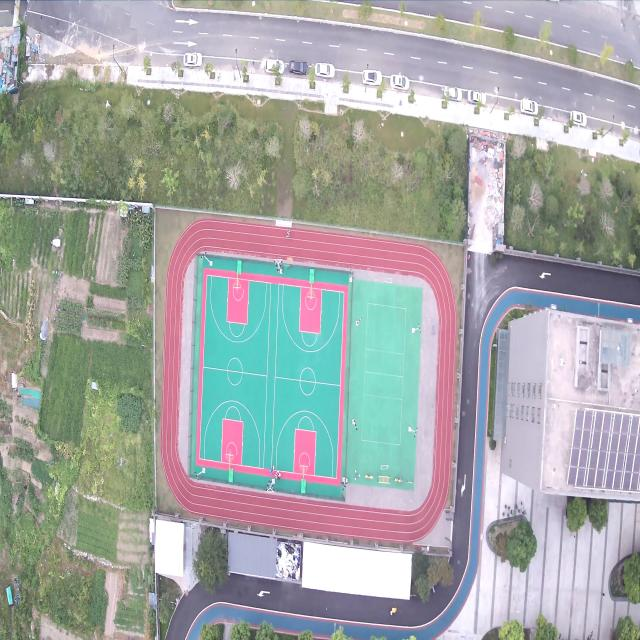UAV: (117, 456, 126, 470)
